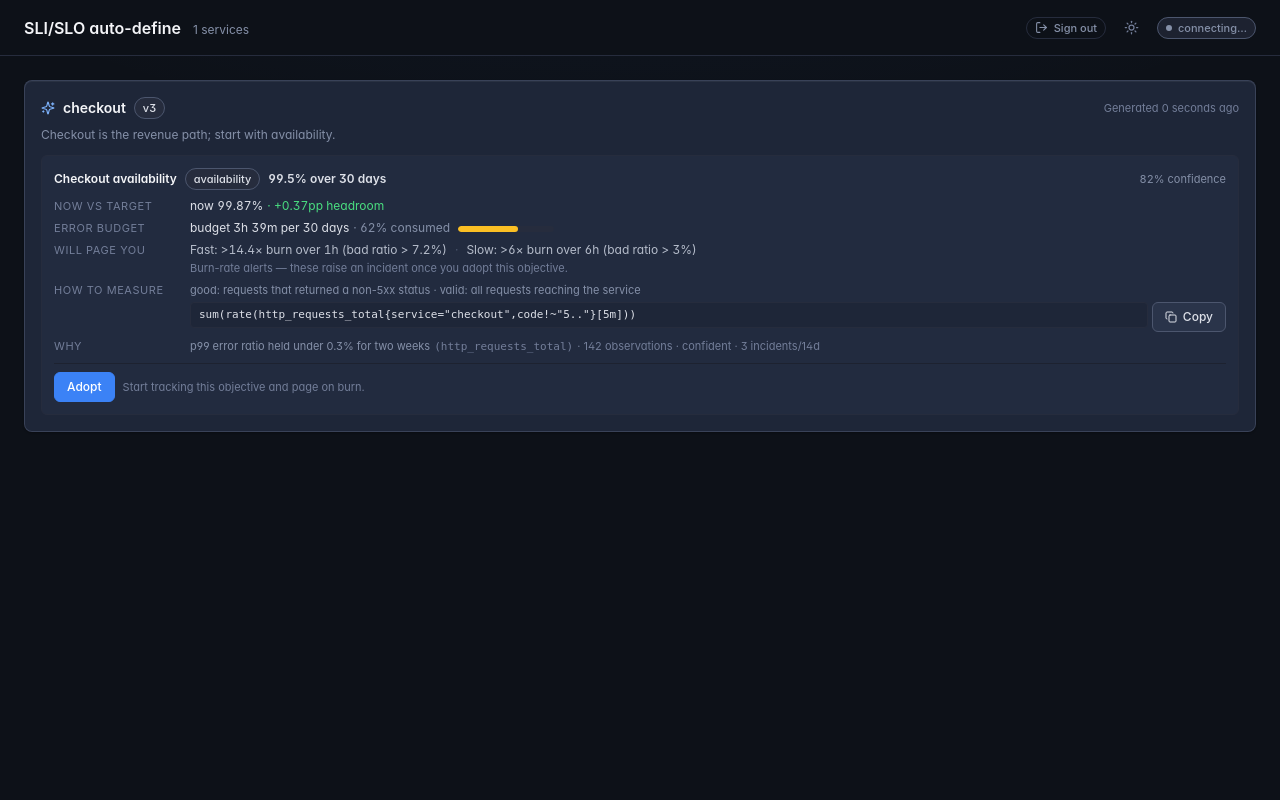
Test: SLORecommendationsPage — enriched SLI block › shows good/valid events and a copyable query
The width and height of the screenshot is (1280, 800).
Expected: the element with test id "slo-sli-measure" shows "requests that returned a non-5xx status", [223,283,430,297]
Expected: the element with test id "slo-sli-measure" shows "all requests reaching the service", [471,283,641,297]
Click the button with test id "slo-sli-copy" at (1189, 317), box [1152,302,1226,332]
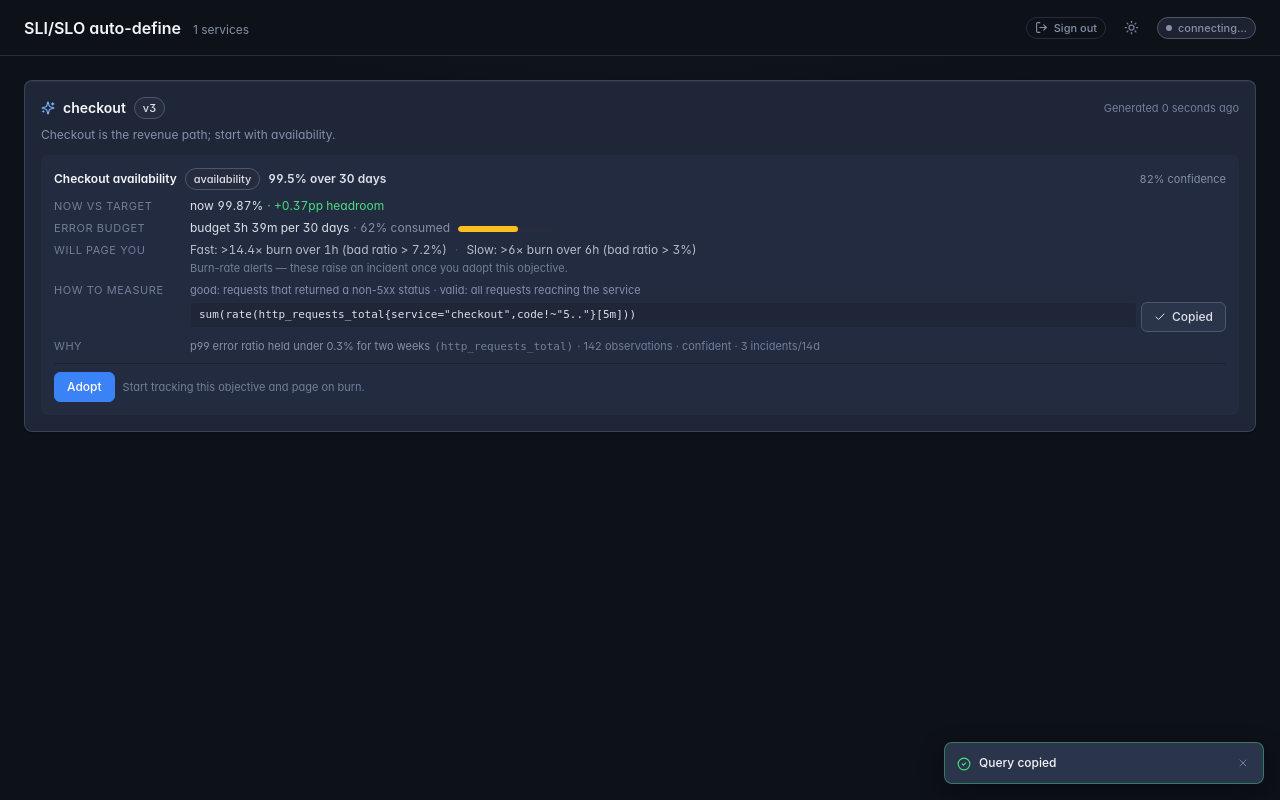
Expected: the text "Query copied" is shown, [979,755,1056,770]
